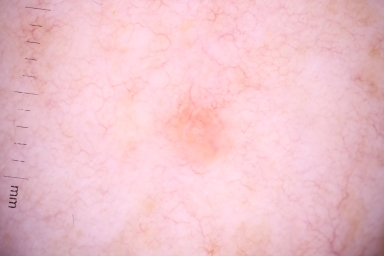melanoma: (166, 107, 226, 169)
